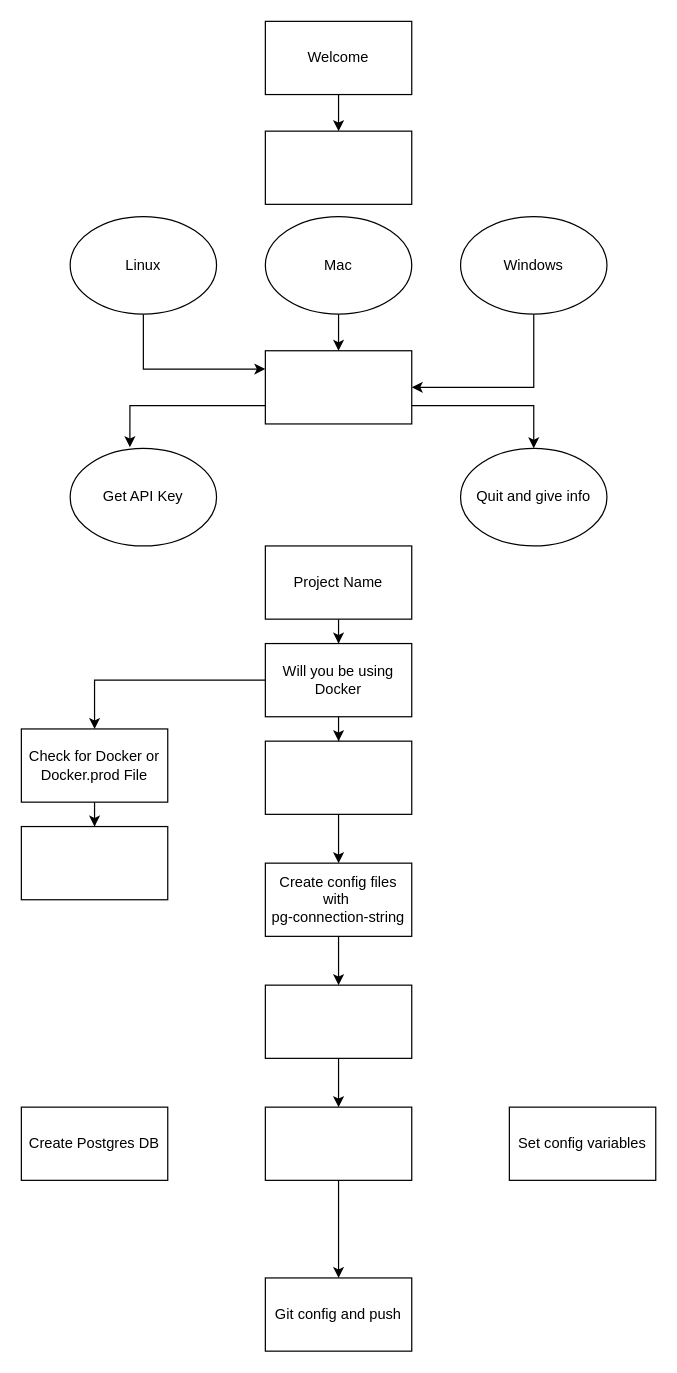
The diagram is 677 pixels wide and 1373 high, and some of its shapes have lost their labels. Each missing label, with the centre of its shape:
"Check if heroku CLI is installed DetechOS()" goes at point 338,167.
"Create App" goes at point 338,1143.
"Create Heroku.yml" goes at point 94,862.
"Make sure the user is logged in" goes at point 338,387.
"Setup Heroku" goes at point 338,1021.
"What Enviroment to deploy to" goes at point 338,777.
